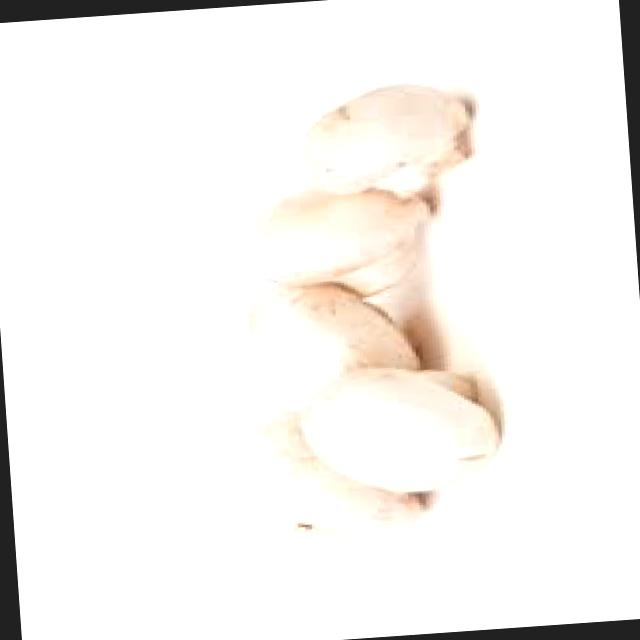Agaricus bisporus: (296, 356, 500, 501), (233, 396, 403, 554), (235, 184, 432, 312), (234, 274, 430, 402), (294, 76, 478, 202)
